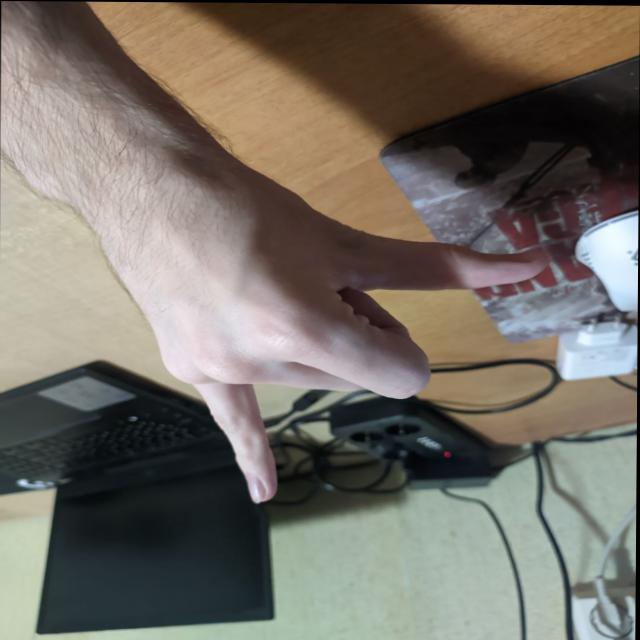u: (83, 212, 552, 519)
